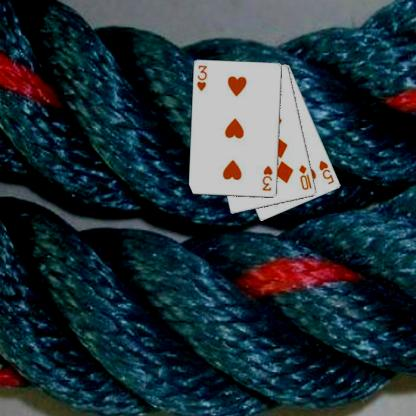10D: (297, 163, 313, 191)
3H: (260, 163, 273, 192), (195, 64, 208, 92)
5H: (316, 158, 336, 186)
